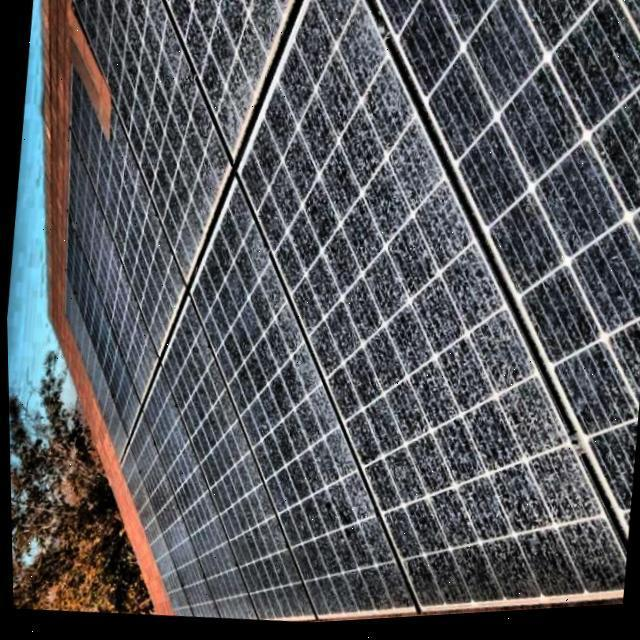Anomaly Solar Panel: (62, 0, 640, 621)
Surface Contaminant: (62, 0, 640, 623)
